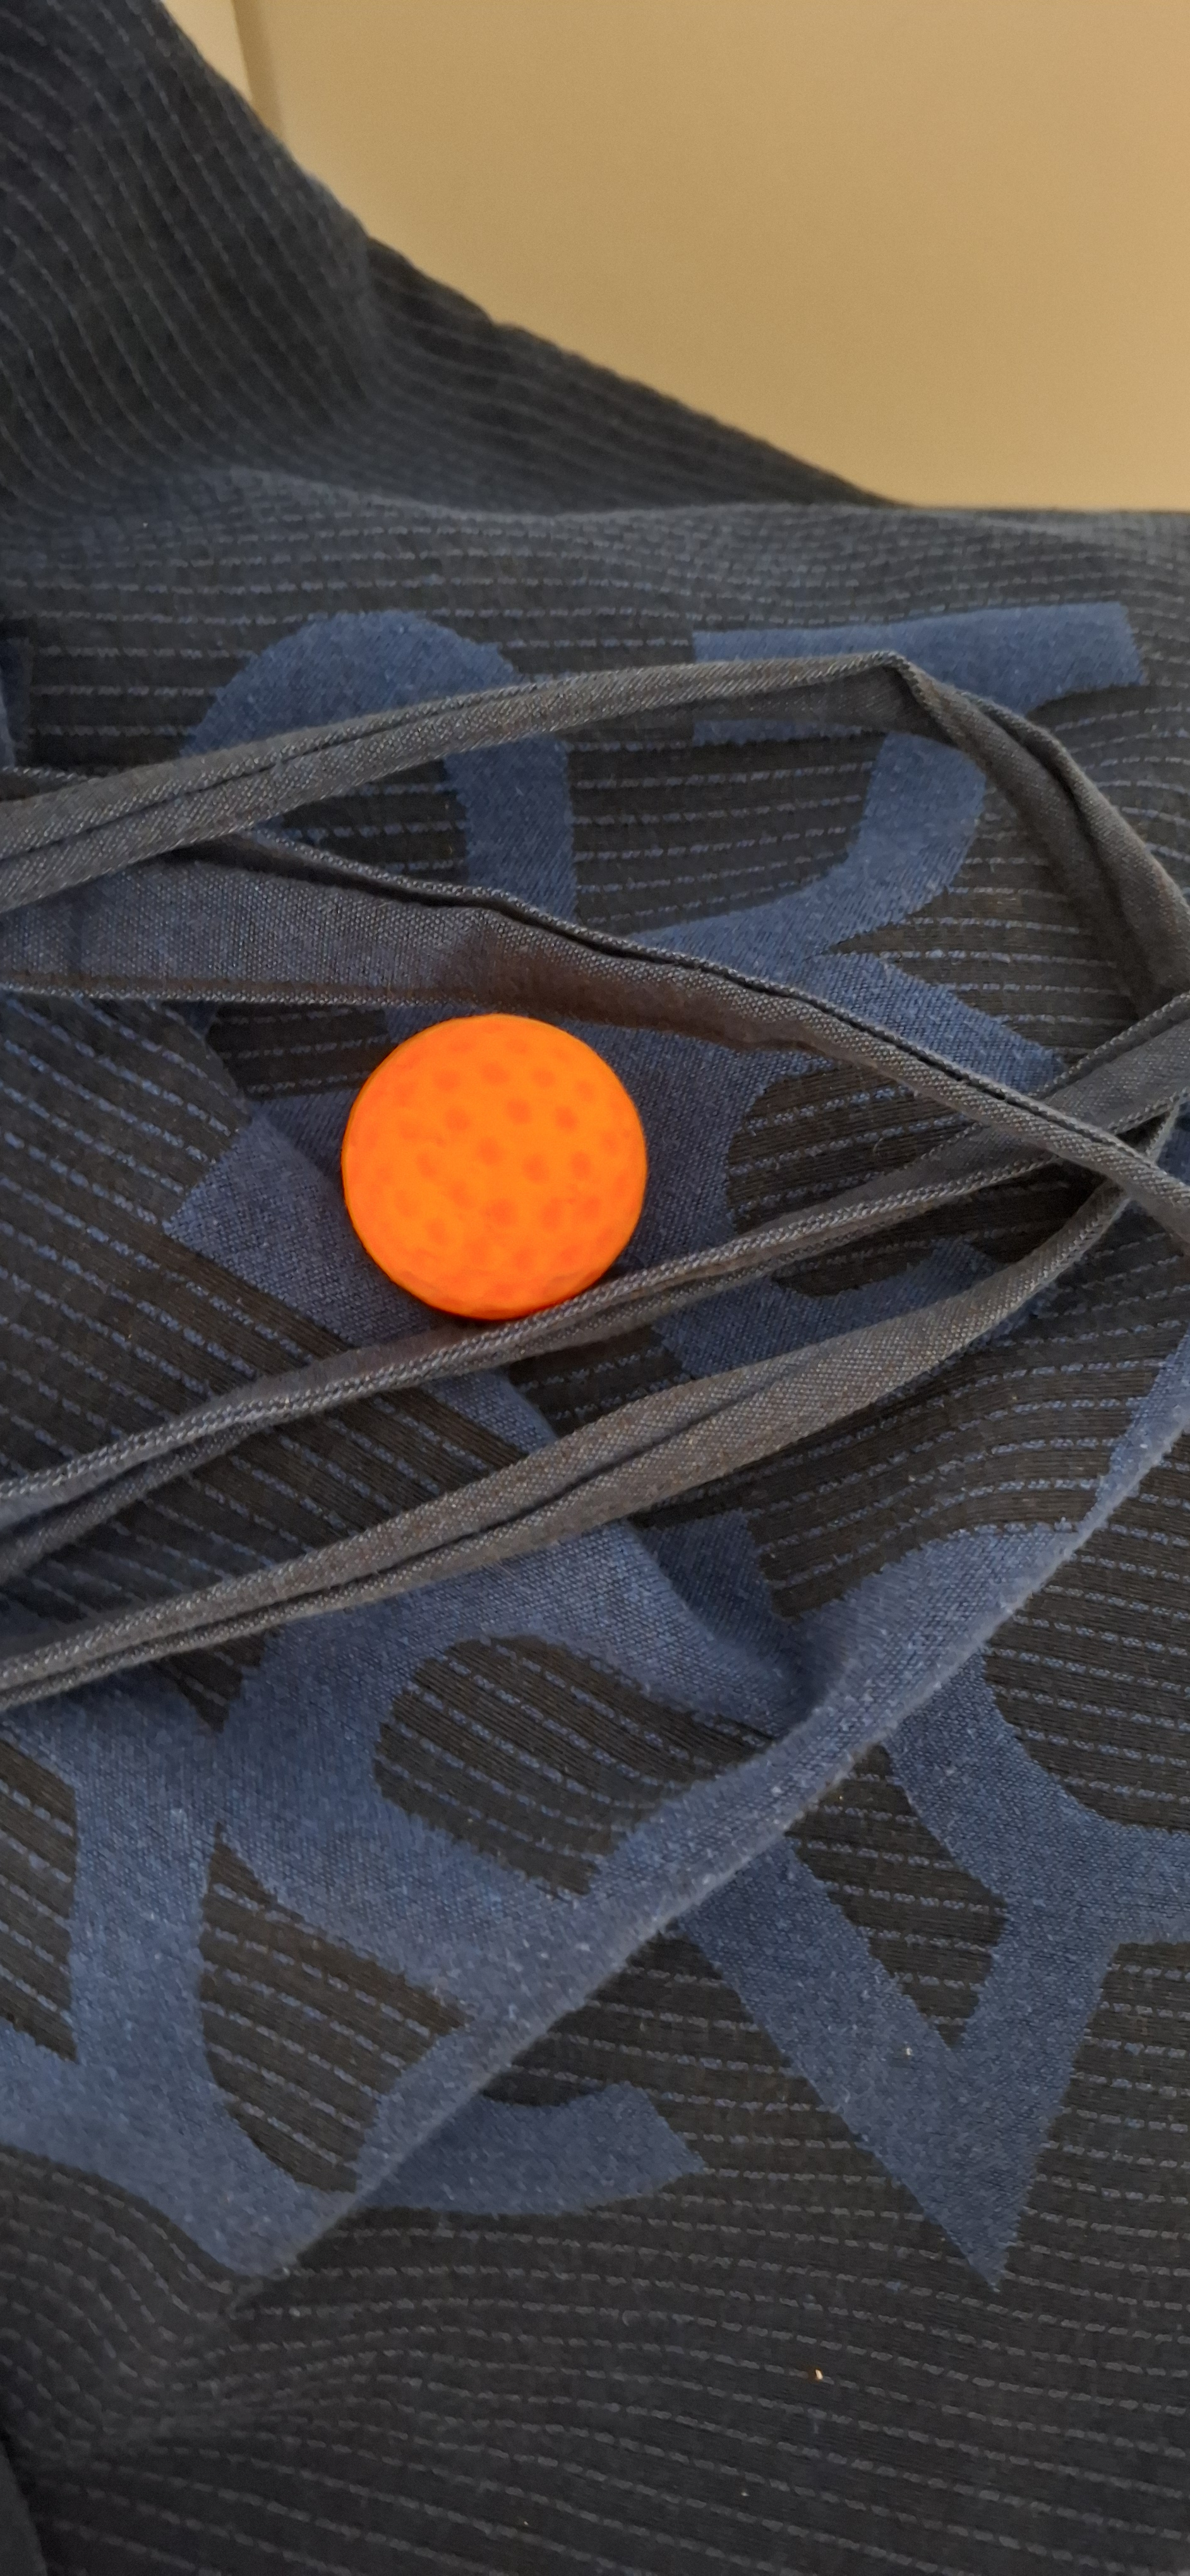ball: (464, 1173, 615, 1828)
